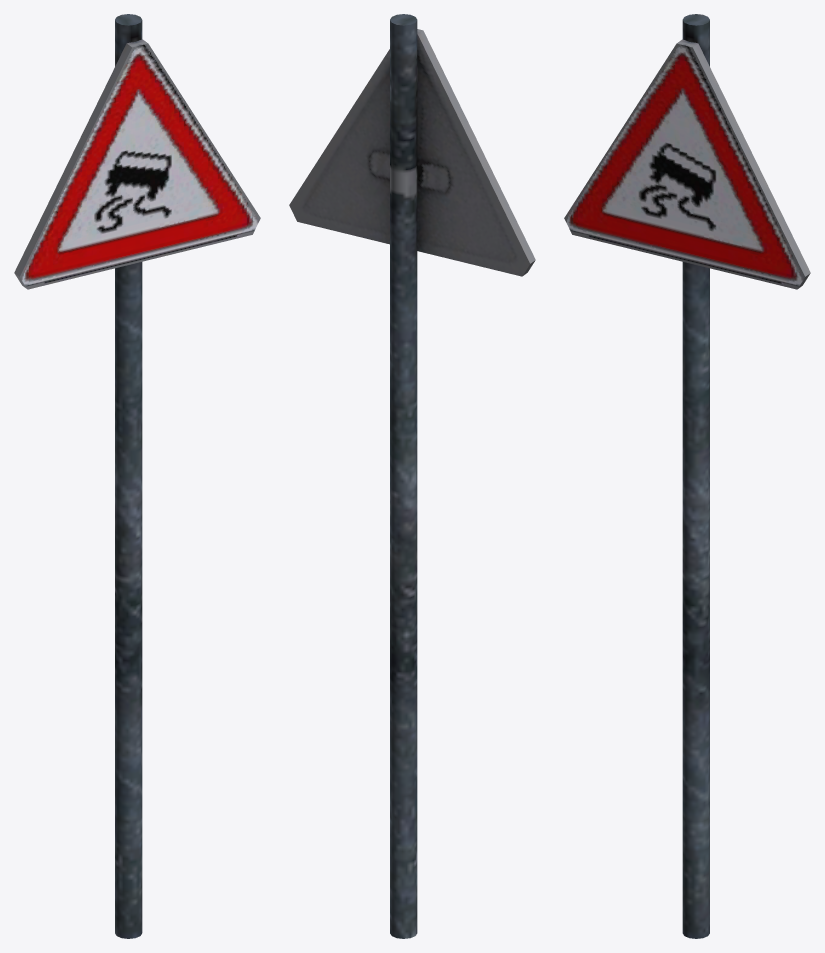
File: Roadsign.gltf
3 renders of one model, left to right at view 1: azimuth 30°, elevation 25°; view 2: azimuth 150°, elevation 25°; view 3: azimuth 330°, elevation 25°, orthographic.
Parts seen in each view (by area): view 1: Object01; view 2: Object01; view 3: Object01.
Part boxes in pixels (bbox=[...]): Object01: bbox=[14, 14, 260, 938]; Object01: bbox=[289, 14, 535, 938]; Object01: bbox=[564, 14, 810, 938].
Size of the model in its own units: 1.01 by 3.67 by 0.135.
1 material, 1 textured.
